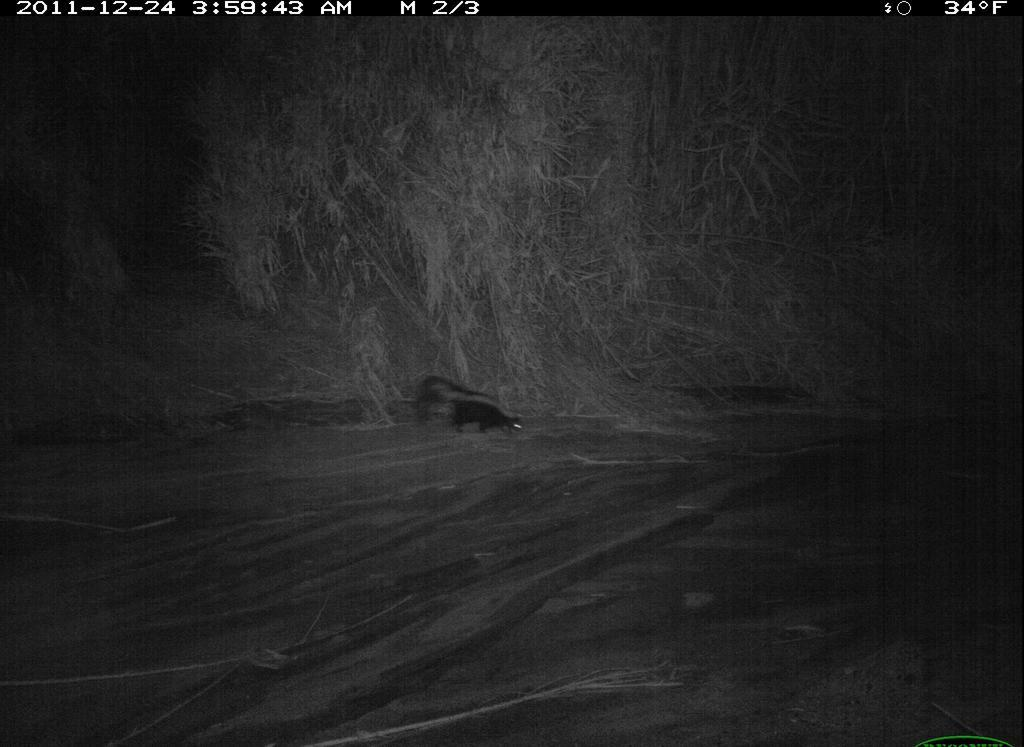skunk: (410, 364, 528, 454)
